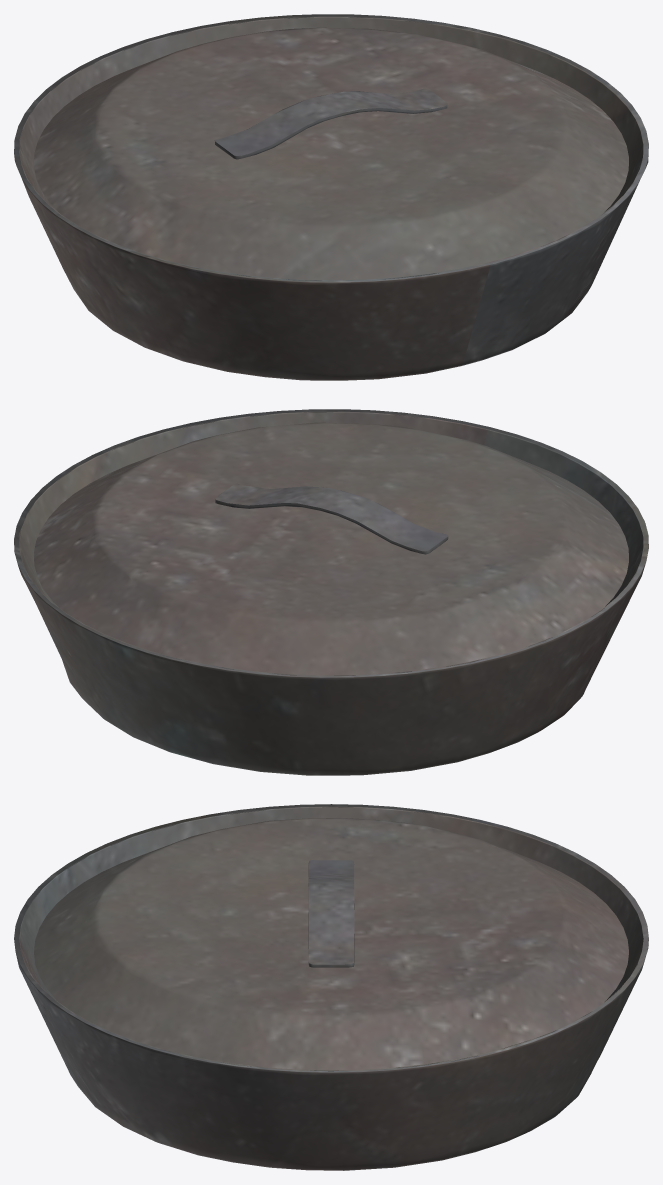
Rendered from SM_Pot.fbx.
The picture shows the model from 3 angles, top to bottom: view 1: azimuth 30°, elevation 25°; view 2: azimuth 150°, elevation 25°; view 3: azimuth 270°, elevation 25°; orthographic projection.
Parts seen in each view (by area): view 1: SM_Pot_LOD0; view 2: SM_Pot_LOD0; view 3: SM_Pot_LOD0.
Part boxes in pixels (box(x1,y1,x2,y2)): SM_Pot_LOD0: box(14, 14, 648, 380); SM_Pot_LOD0: box(14, 409, 648, 775); SM_Pot_LOD0: box(14, 804, 648, 1170).
Bounding box in the file's own units: 62.58 × 62.58 × 18.22.
Materials: 1 (1 with a texture image).
